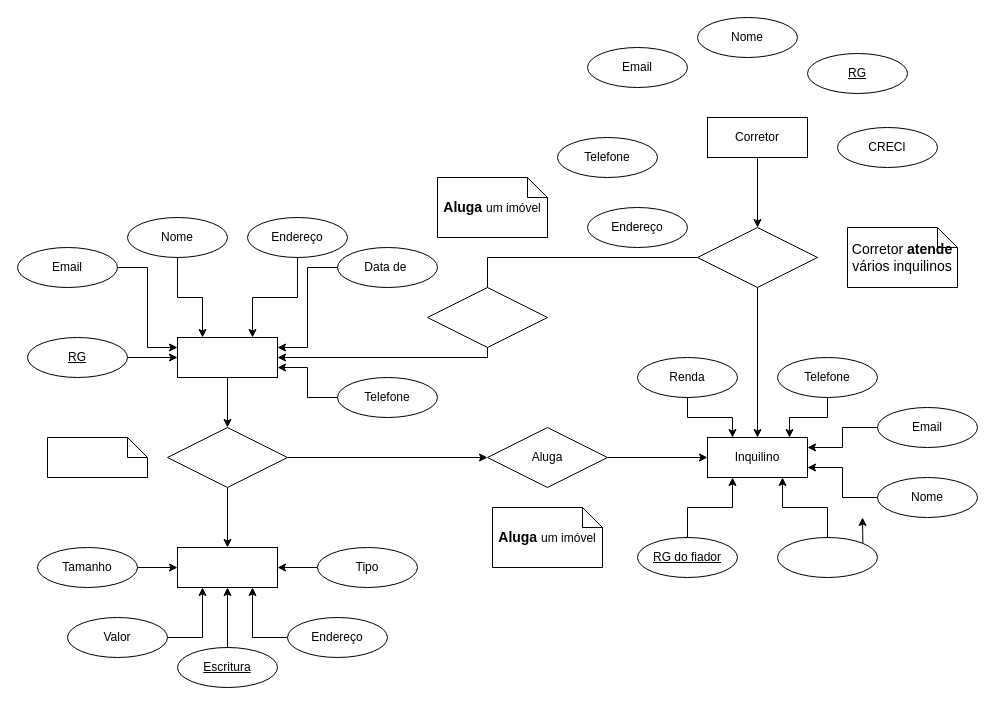
Some shapes in this 995 by 705 pixel diagram are drawn without their labels. The shapes that lost their labels are listed below. From the top down, each one's centre as x and y in pixels, then its label:
point 757,257: Atender
point 487,317: Contatar
point 227,357: Proprietá rio
point 97,457: Um proprietário possui imóveis
point 227,457: possui
point 227,567: Imóveis
point 827,557: Status Civil
